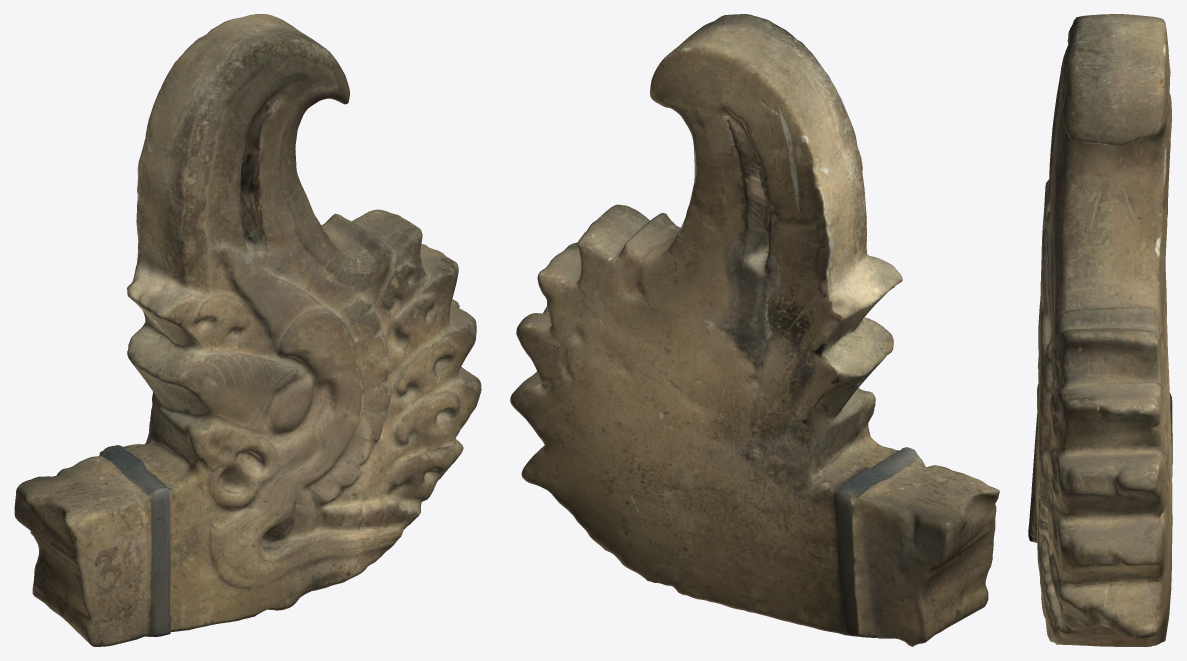
Rendered from 30_vattrangtri_final.glb.
3 views of the same model, side by side, from view 1: azimuth 30°, elevation 25°; view 2: azimuth 150°, elevation 25°; view 3: azimuth 270°, elevation 25° (orthographic). The views are drawn at different scales.
Size of the model in its own units: 0.4783 by 0.5794 by 0.1272.
Materials: 1 (1 with a texture image).
